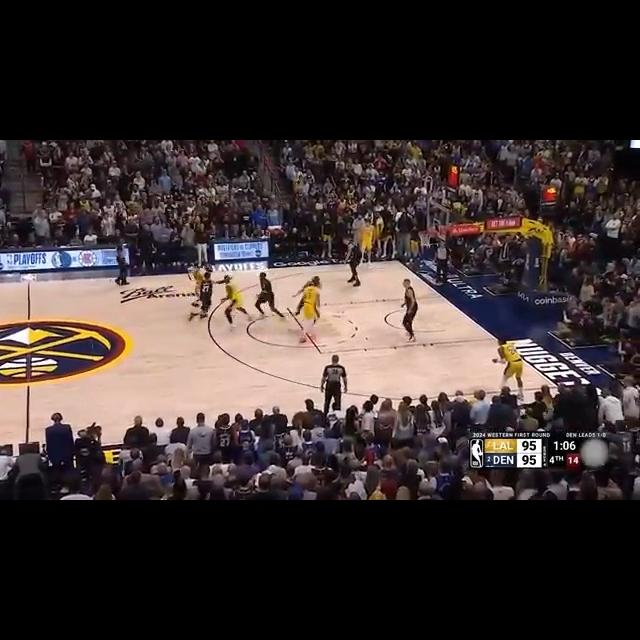hoop: (418, 229, 434, 248)
